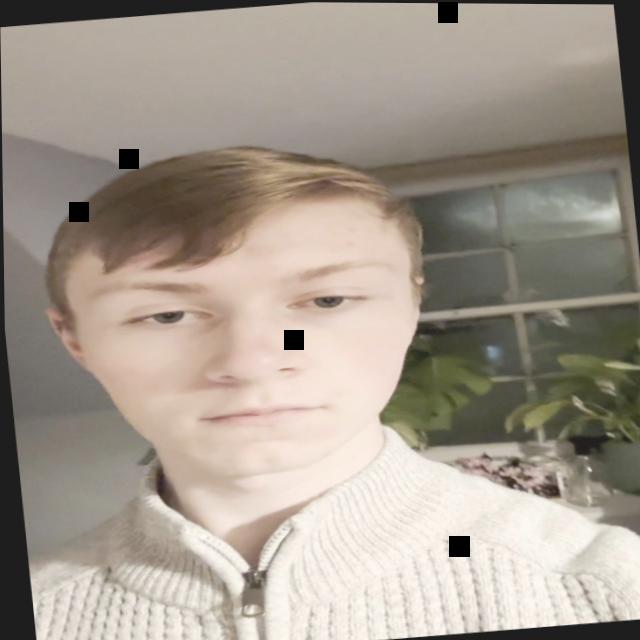NO-Mask: (67, 177, 439, 494)
